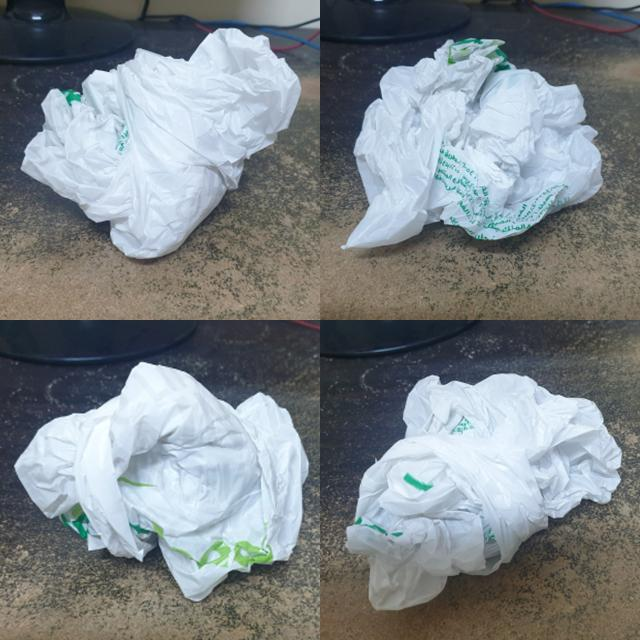Single-layer Plastic: (15, 362, 309, 601), (346, 374, 621, 610), (21, 29, 301, 259), (342, 39, 602, 249)
